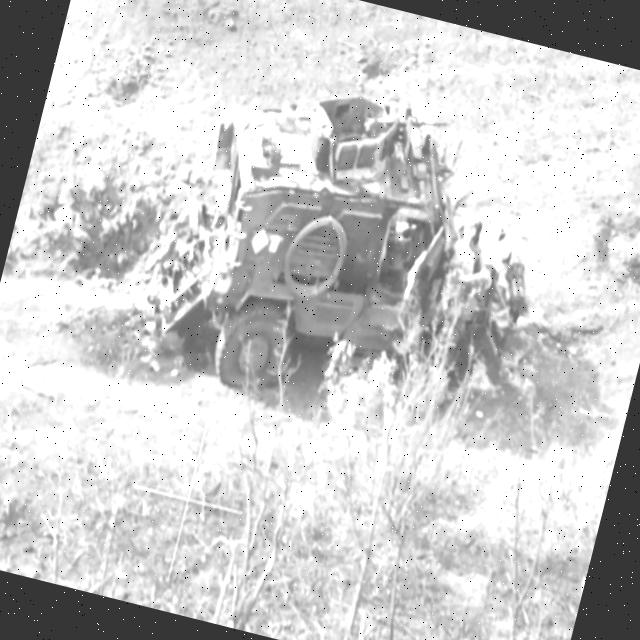Vehicle: (120, 47, 565, 480)
